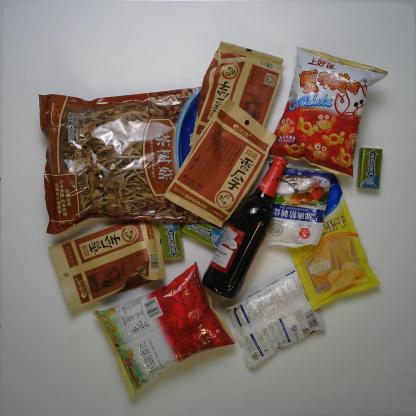Alcohol: (200, 155, 289, 302)
Dried Food: (36, 81, 222, 235), (162, 96, 278, 229), (48, 214, 168, 312), (189, 38, 283, 154)
Dried Fruit: (276, 173, 382, 311)
Gum: (181, 214, 225, 250), (356, 147, 384, 190), (159, 218, 184, 261)
Puffed Food: (92, 260, 237, 398), (269, 40, 390, 181)
Seasoner: (225, 266, 327, 370), (259, 167, 334, 248)
